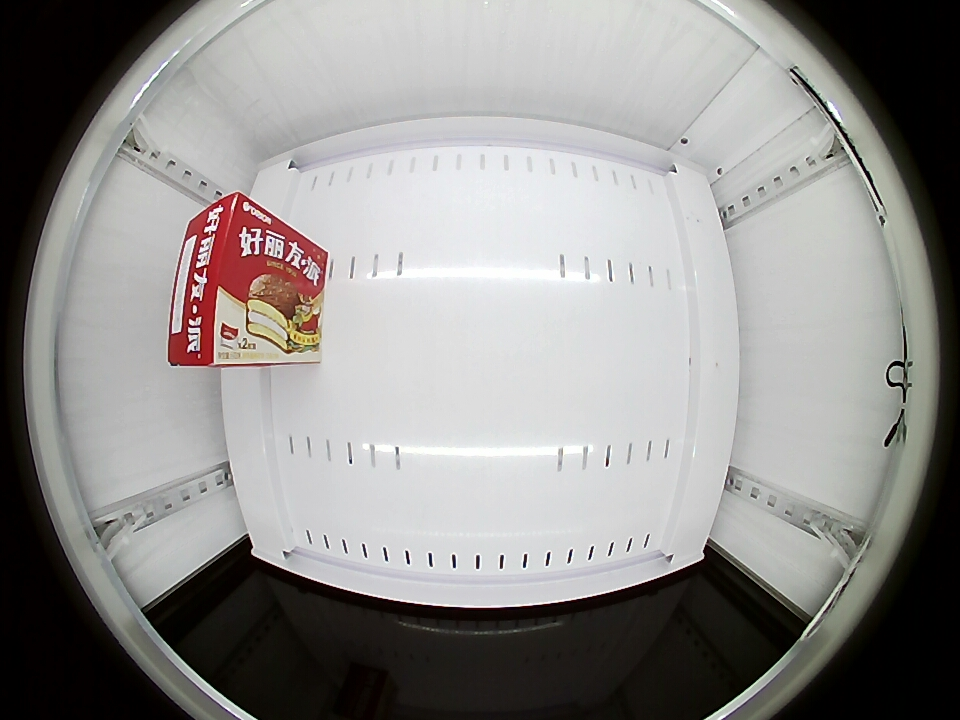haoliyou: (169, 193, 288, 367)
